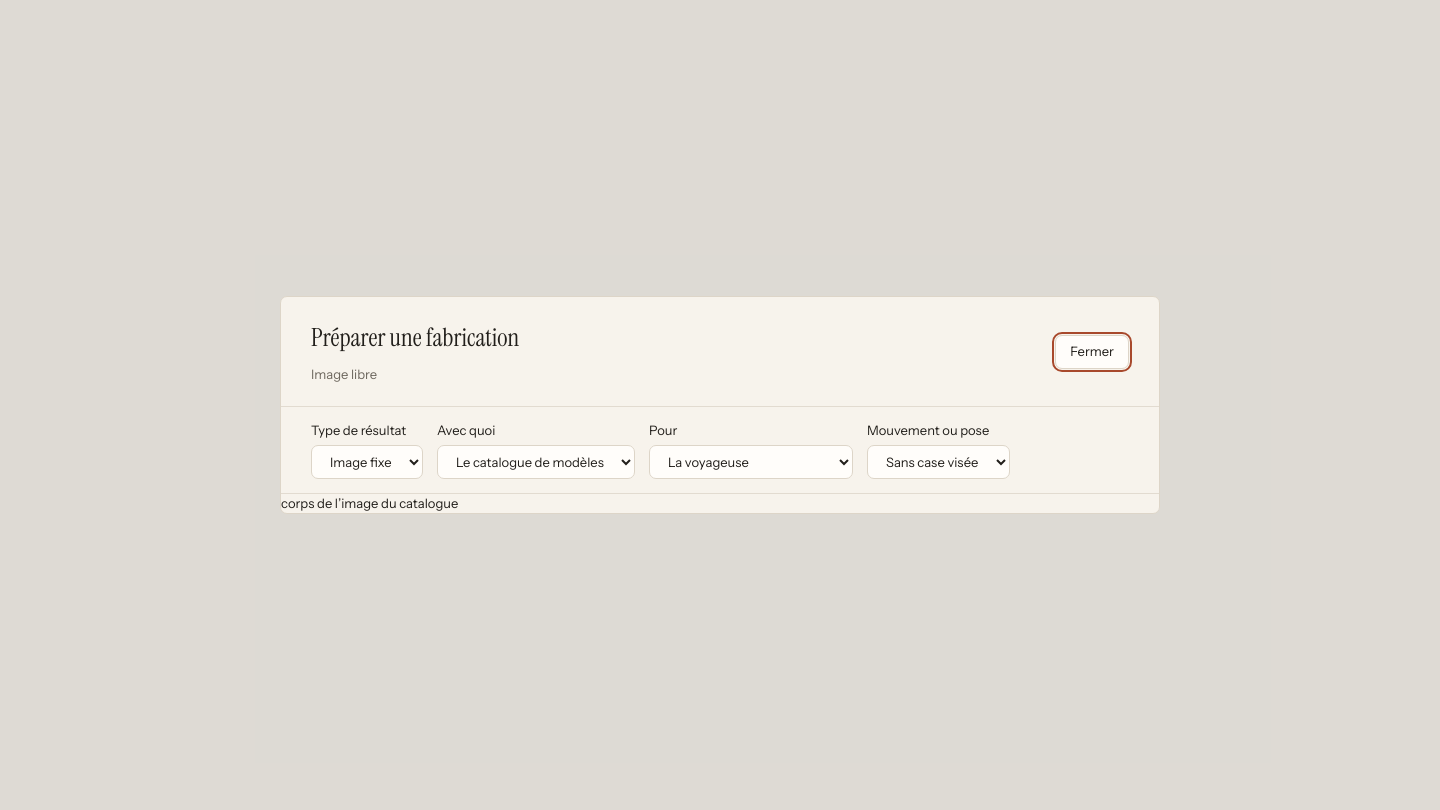
Scenario: le sujet de l’image se change, ou se retire pour une image libre
The width and height of the screenshot is (1440, 810).
Select "Champy" in the dropdown named "Sujet de l’image" at {"x": 751, "y": 462}, box [649,444,853,478]
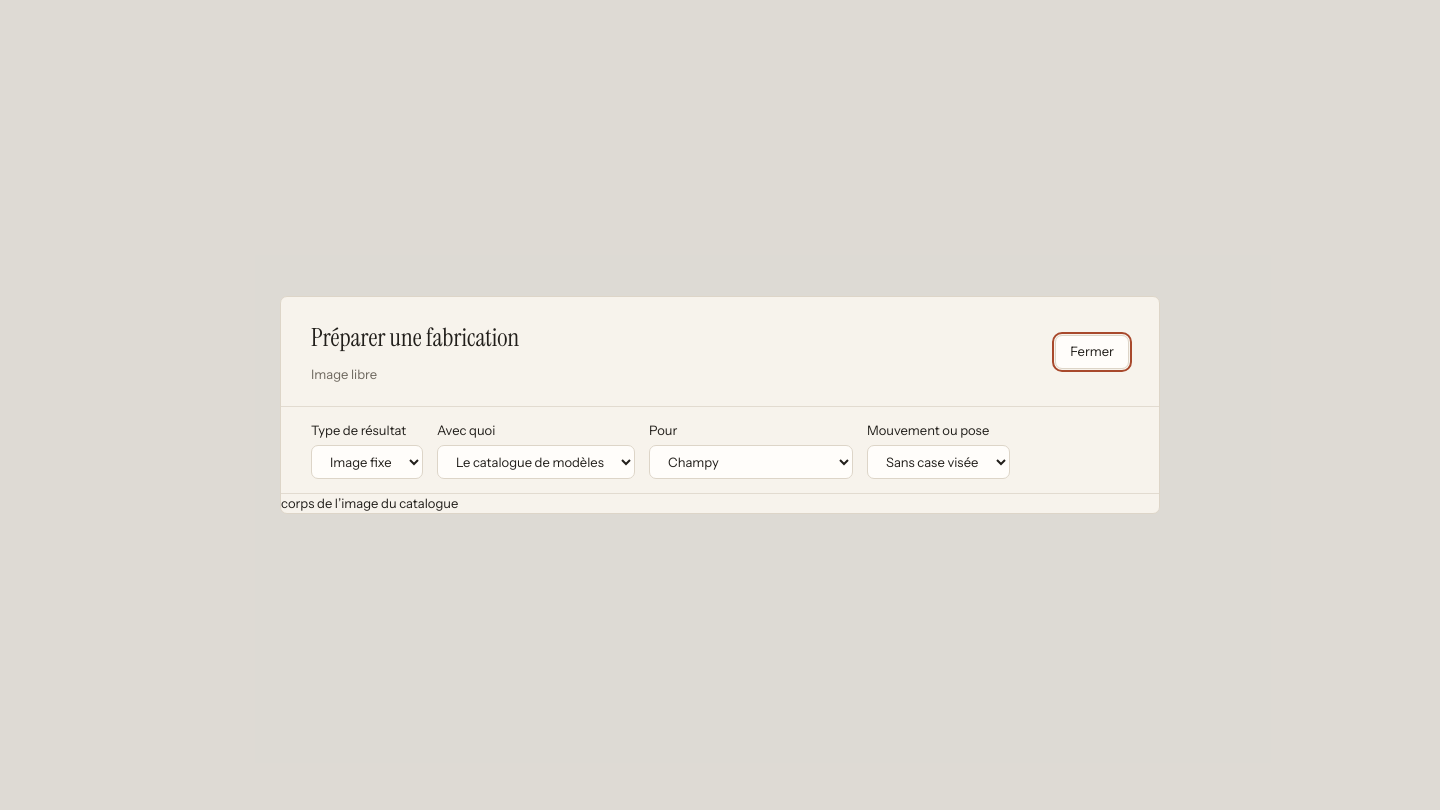
Select "Aucun sujet — image libre" in the dropdown named "Sujet de l’image" at {"x": 751, "y": 462}, box [649,444,853,478]
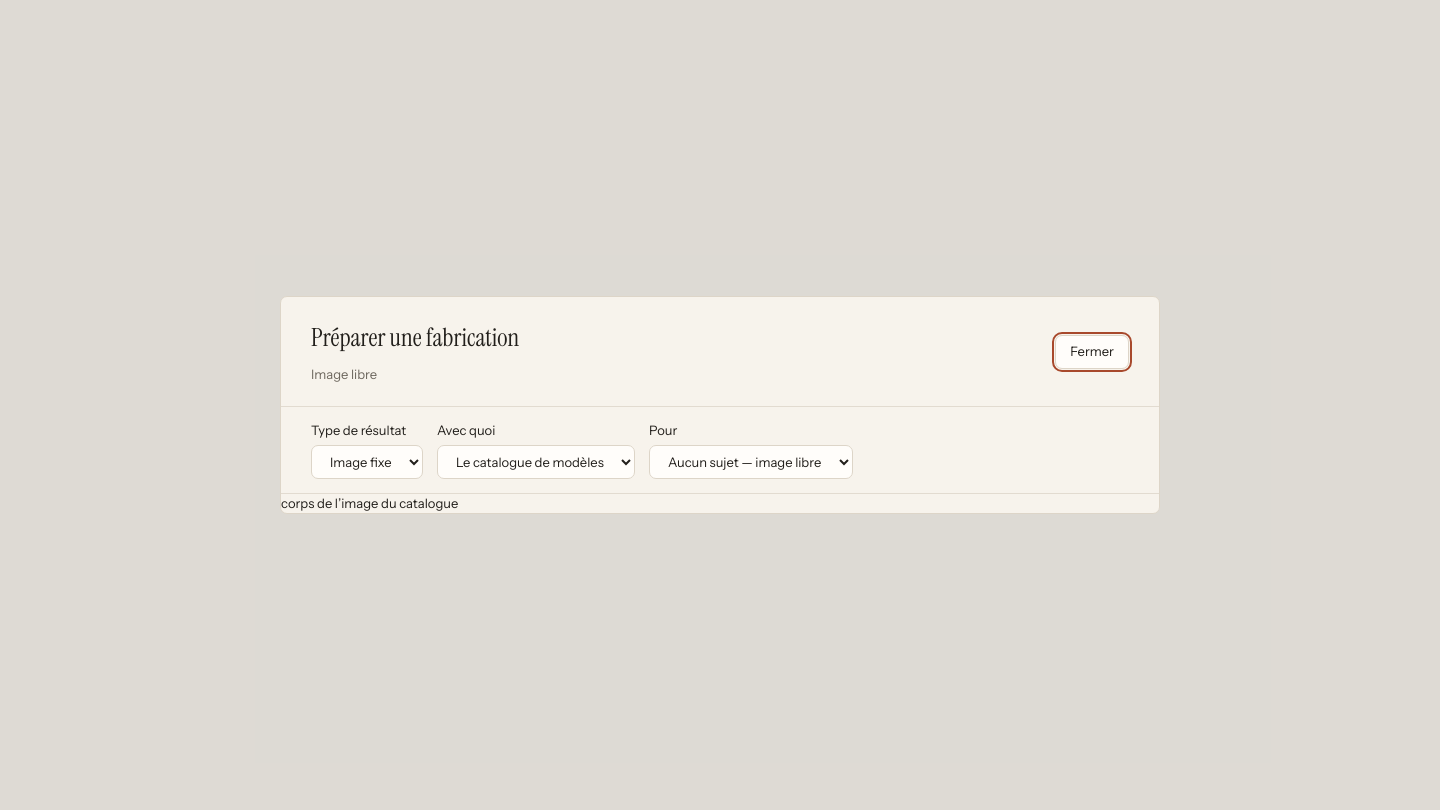
Expected: the label labelled "Mouvement ou pose" is gone
